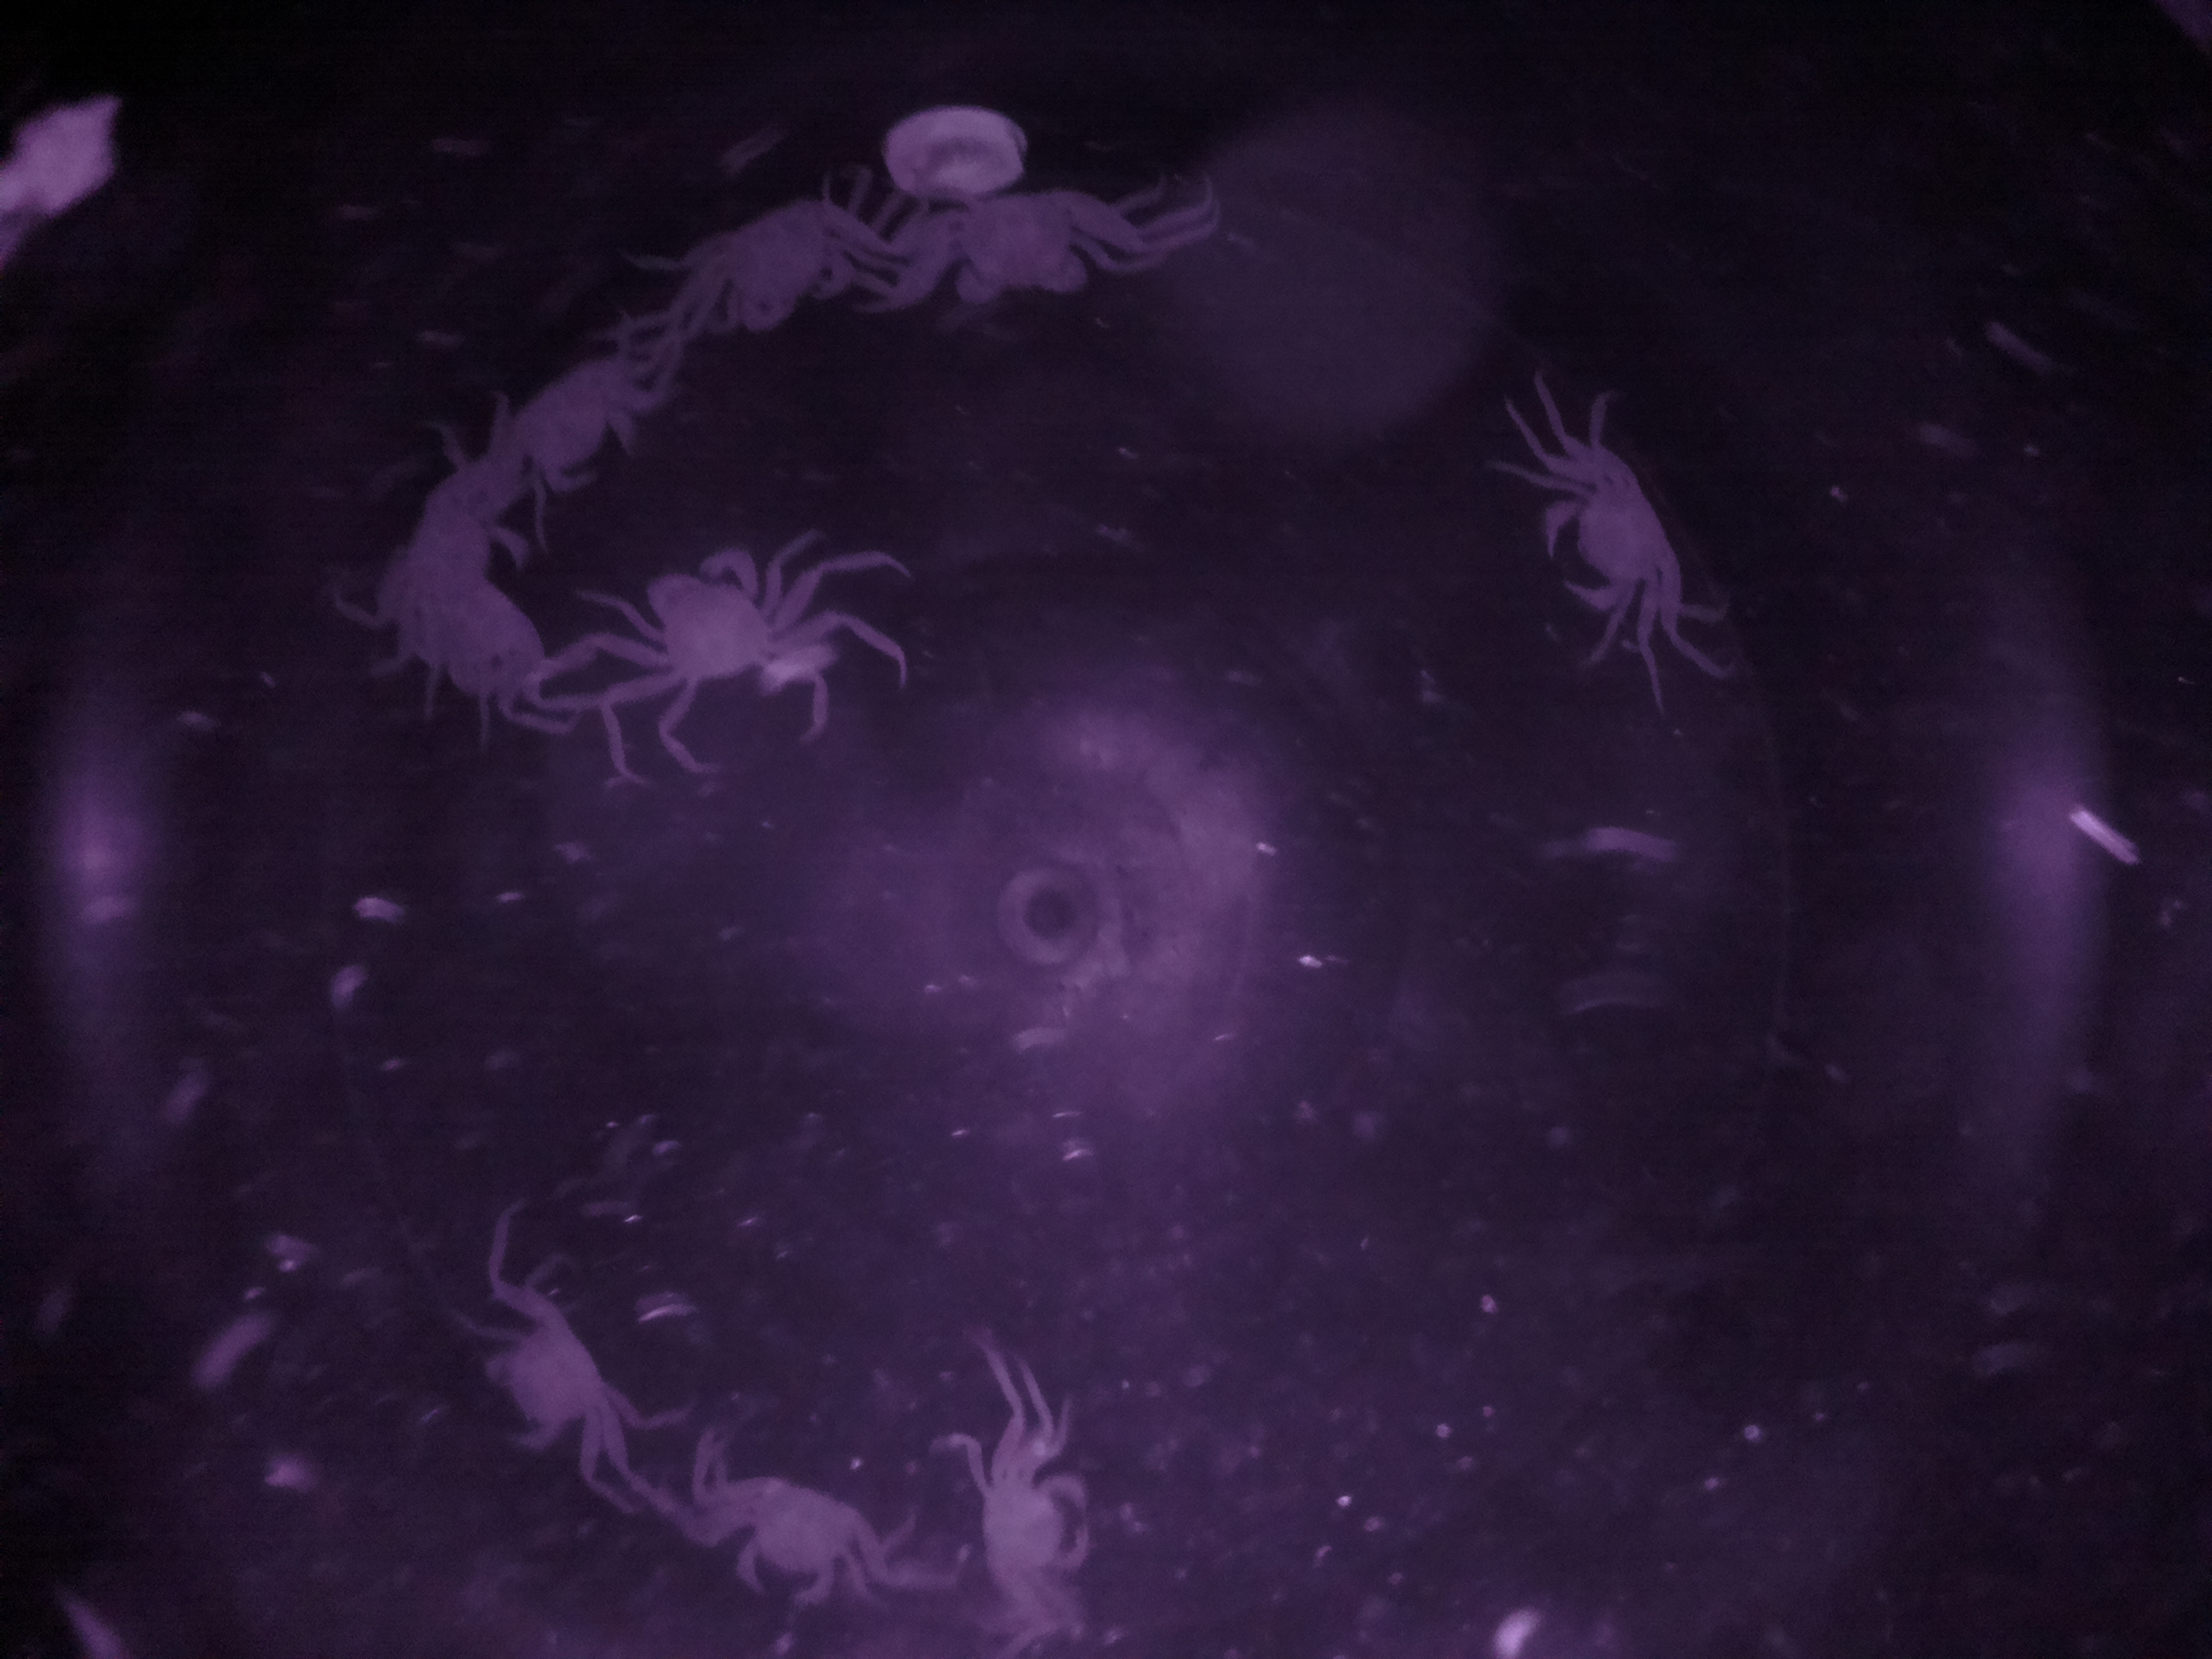Crab: (488, 336, 665, 505), (1529, 455, 1693, 634), (693, 183, 866, 350), (935, 166, 1109, 324), (634, 538, 780, 718), (469, 1297, 615, 1474), (718, 1464, 873, 1631), (968, 1441, 1113, 1614)
